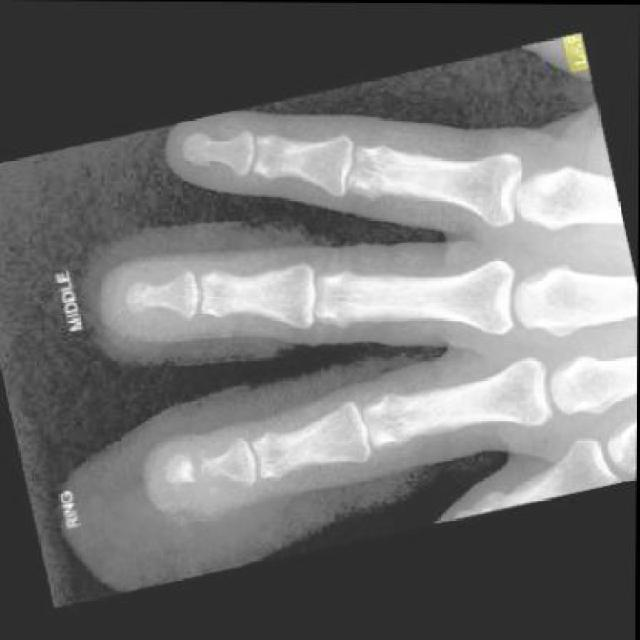Fracture: (153, 439, 241, 509)
